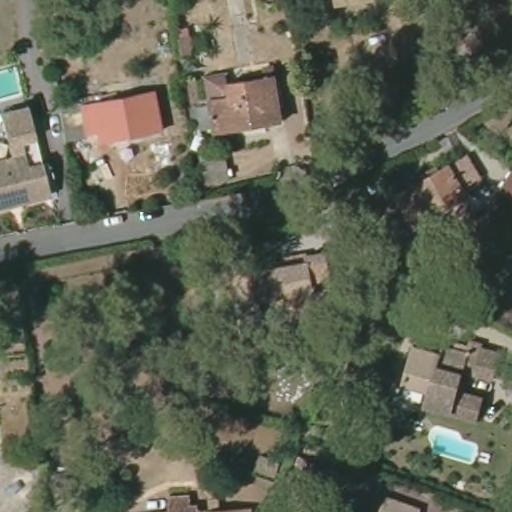pool: (426, 425, 495, 464), (0, 60, 26, 103)
